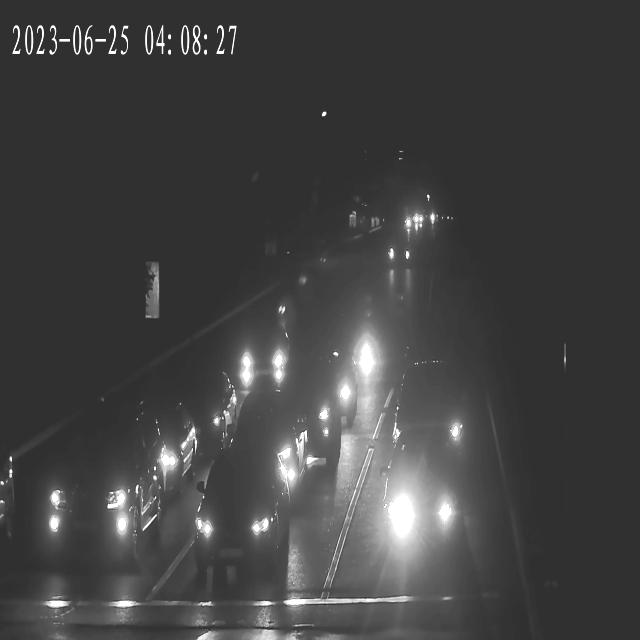Car: (21, 429, 154, 551), (180, 462, 288, 578), (100, 402, 202, 504), (388, 368, 471, 460), (269, 373, 343, 472), (157, 377, 239, 463), (378, 464, 460, 548), (305, 320, 385, 400), (293, 360, 359, 429), (232, 323, 290, 385), (0, 448, 13, 522), (383, 238, 409, 267), (402, 214, 421, 230)
